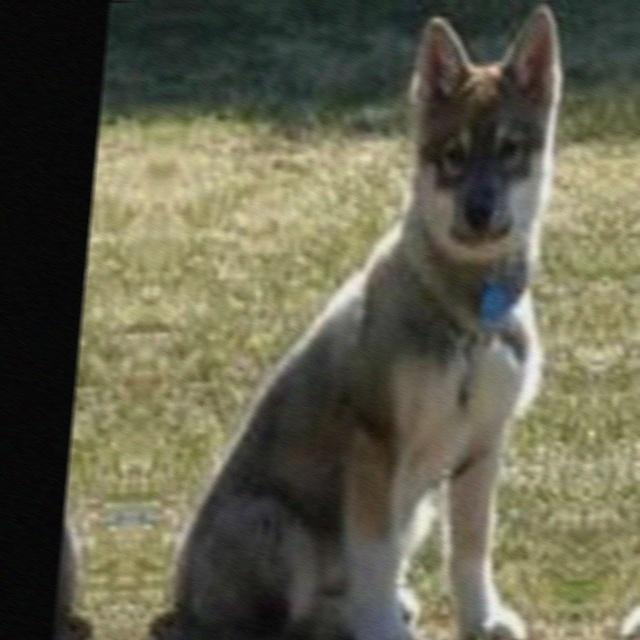dog: (150, 8, 600, 640), (49, 27, 141, 640), (602, 3, 640, 640)
